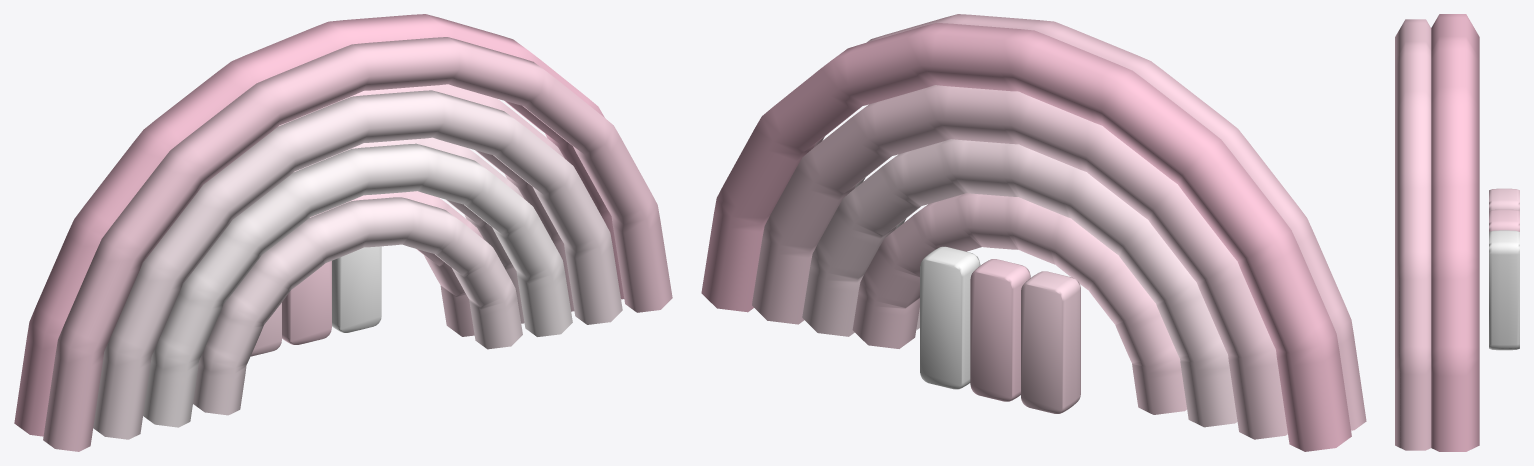
The model's file is decor_3_candy.glb.
3 renders of one model, left to right at view 1: azimuth 30°, elevation 25°; view 2: azimuth 150°, elevation 25°; view 3: azimuth 270°, elevation 25°, orthographic. The views are drawn at different scales.
Parts seen in each view (by area): view 1: decor_3_candy; view 2: decor_3_candy; view 3: decor_3_candy.
Boxes of the visible parts, x1,y1,x2,y2 form: decor_3_candy: (14,14,672,451); decor_3_candy: (701,14,1366,451); decor_3_candy: (1395,14,1519,451).
Size of the model in its own units: 15.11 by 7.65 by 3.03.
